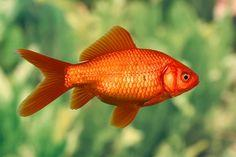goldfish: (29, 33, 208, 136)
